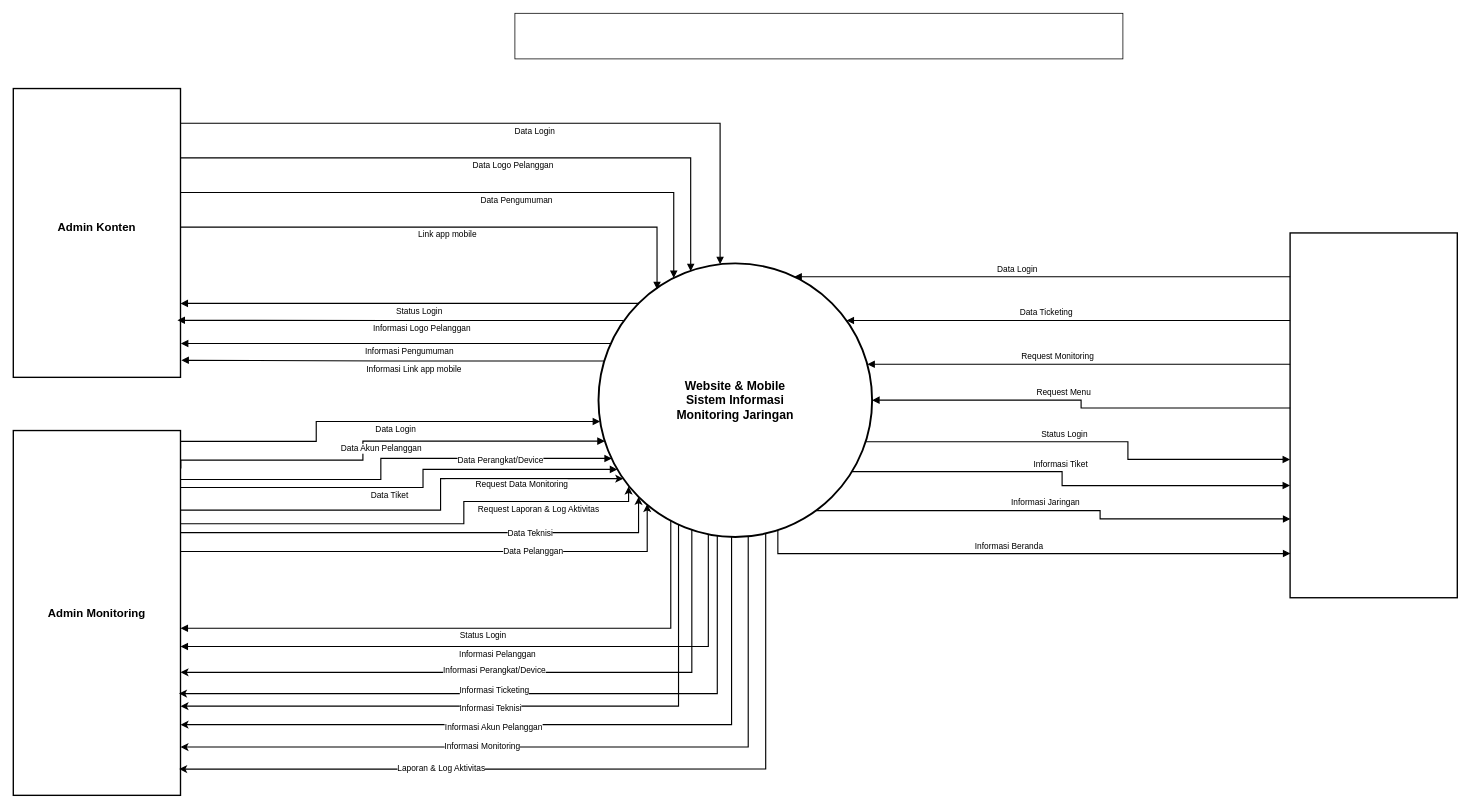
Image size: 1471x809. Some labels were removed from this diagram. Each missing label, with the centre of its shape:
"DFD LEVEL 0 (Diagram Konteks)" belongs at pixel 818 36.
"User" belongs at pixel 1373 415.
